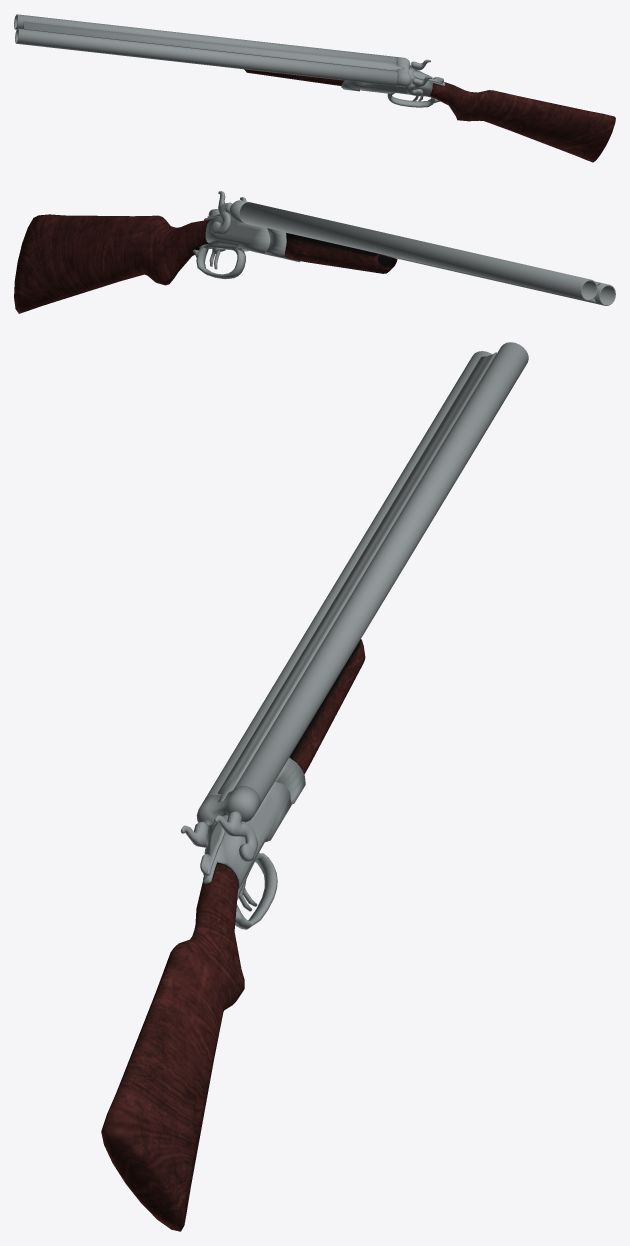
The model's file is rifle.obj.
The picture shows the model from 3 angles, top to bottom: view 1: azimuth 30°, elevation 25°; view 2: azimuth 150°, elevation 25°; view 3: azimuth 270°, elevation 25°; orthographic projection. The views are drawn at different scales.
Visible parts, largest first — view 1: defaultMaterial_0.006, defaultMaterial_0.001, defaultMaterial_0.004, defaultMaterial_0.002, defaultMaterial_0.005, defaultMaterial_0, defaultMaterial_0.003, defaultMaterial_1.004; view 2: defaultMaterial_0.001, defaultMaterial_0.006, defaultMaterial_0.002, defaultMaterial_0, defaultMaterial_0.004, defaultMaterial_0.003, defaultMaterial_0.005; view 3: defaultMaterial_0.001, defaultMaterial_0.006, defaultMaterial_0.004, defaultMaterial_0.002, defaultMaterial_0, defaultMaterial_0.005, defaultMaterial_0.003.
Boxes of the visible parts, left/top/right/bottom form: defaultMaterial_0.006: left=14, top=14, right=397, bottom=86; defaultMaterial_0.001: left=430, top=82, right=615, bottom=162; defaultMaterial_0.004: left=22, top=21, right=404, bottom=91; defaultMaterial_0.002: left=359, top=67, right=445, bottom=107; defaultMaterial_0.005: left=395, top=57, right=443, bottom=87; defaultMaterial_0: left=244, top=69, right=344, bottom=85; defaultMaterial_0.003: left=406, top=59, right=431, bottom=96; defaultMaterial_1.004: left=23, top=22, right=396, bottom=71; defaultMaterial_0.001: left=14, top=214, right=211, bottom=313; defaultMaterial_0.006: left=239, top=202, right=615, bottom=305; defaultMaterial_0.002: left=192, top=215, right=279, bottom=279; defaultMaterial_0: left=284, top=233, right=397, bottom=273; defaultMaterial_0.004: left=265, top=228, right=600, bottom=303; defaultMaterial_0.003: left=211, top=191, right=246, bottom=234; defaultMaterial_0.005: left=207, top=200, right=249, bottom=222; defaultMaterial_0.001: left=101, top=862, right=244, bottom=1231; defaultMaterial_0.006: left=205, top=342, right=528, bottom=805; defaultMaterial_0.004: left=217, top=352, right=496, bottom=804; defaultMaterial_0.002: left=203, top=781, right=291, bottom=929; defaultMaterial_0: left=289, top=639, right=365, bottom=774; defaultMaterial_0.005: left=196, top=786, right=260, bottom=876; defaultMaterial_0.003: left=181, top=811, right=257, bottom=862.
Bounding box in the file's own units: 1.86 × 0.7183 × 0.679.
